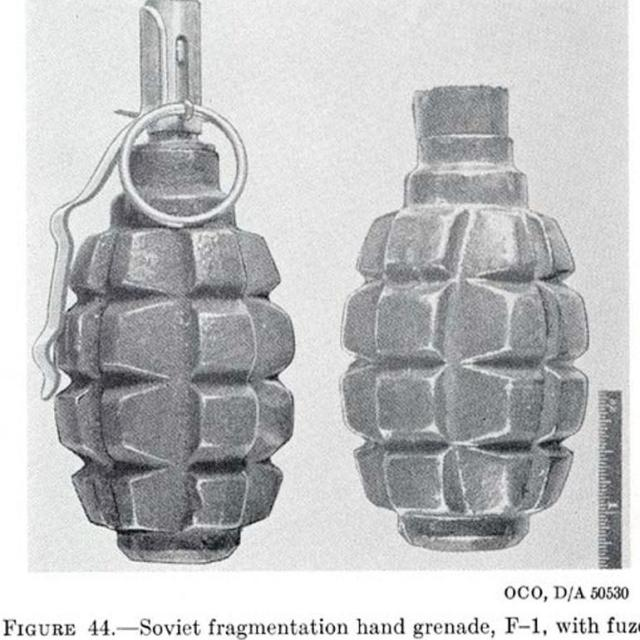grenade: (32, 1, 297, 566), (338, 86, 592, 553)
